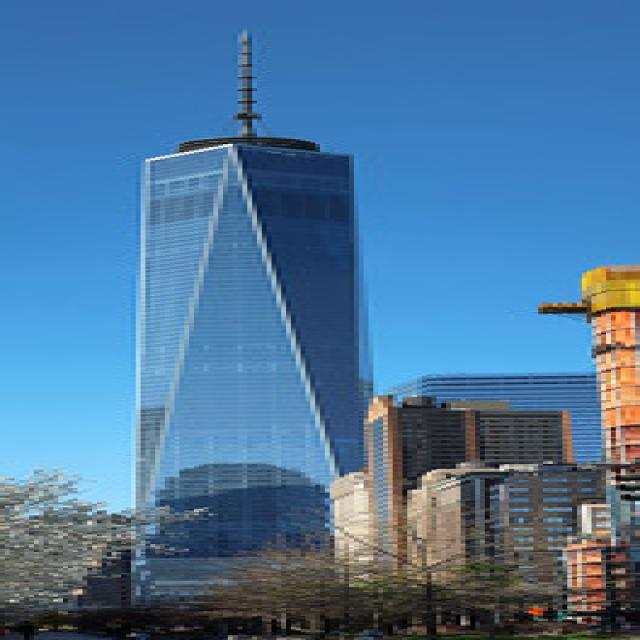building: (116, 130, 374, 616)
